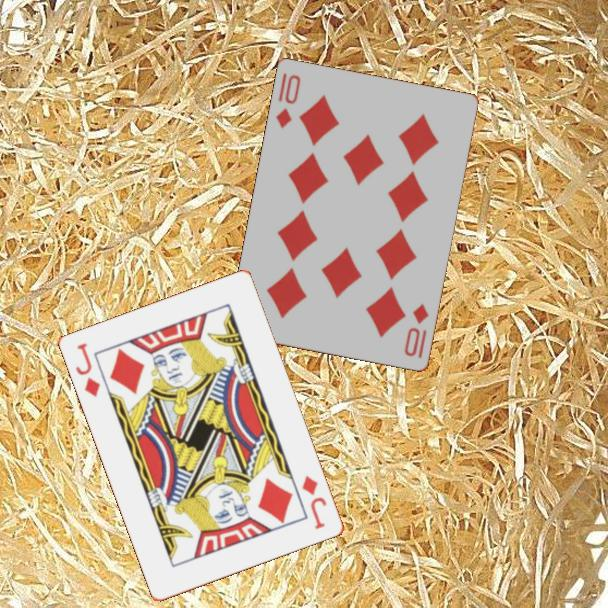d10: (272, 70, 304, 132), (401, 301, 432, 361)
d11: (299, 472, 330, 532), (72, 340, 103, 400)
